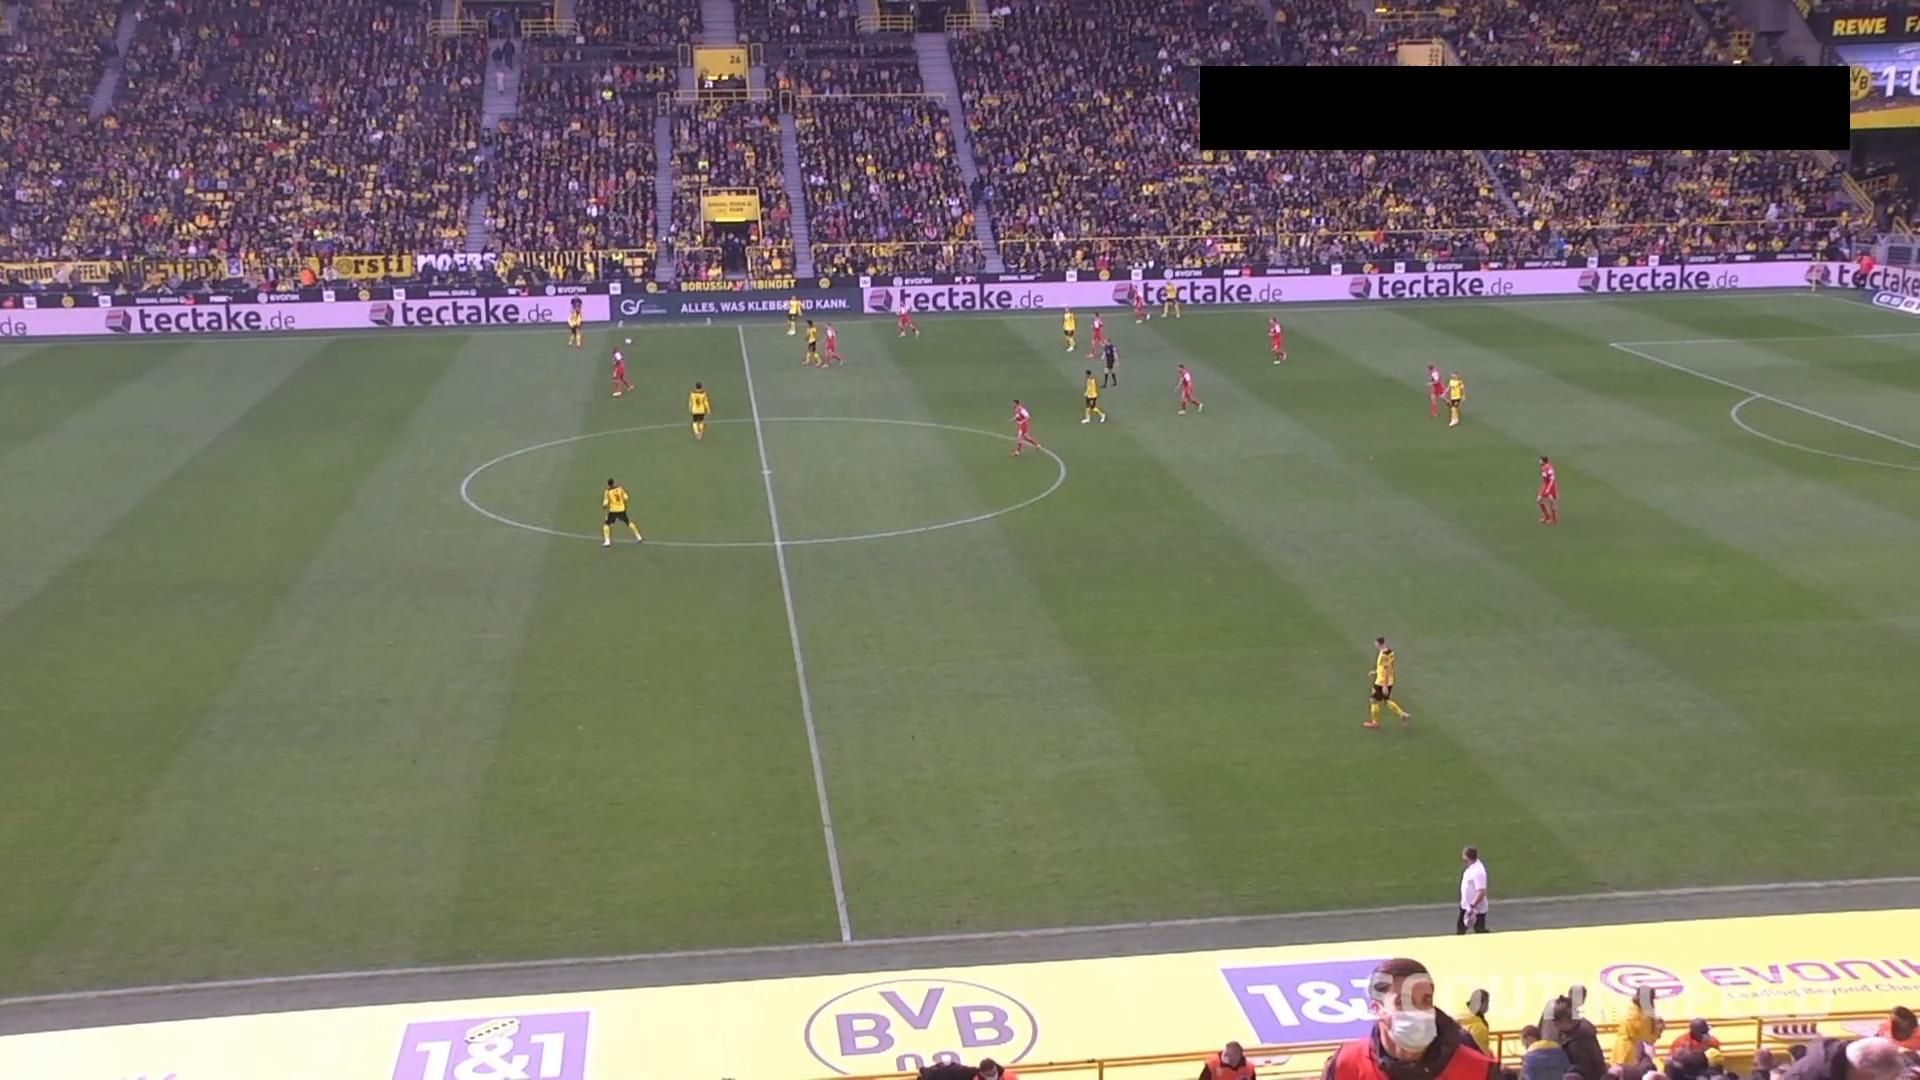coach: (1455, 844, 1490, 933)
fan: (1319, 957, 1508, 1078)
player: (1361, 635, 1409, 728), (600, 477, 643, 546), (1008, 397, 1042, 456), (1173, 362, 1203, 415), (1536, 454, 1559, 523), (1079, 367, 1106, 424), (687, 380, 710, 439), (1442, 369, 1465, 426), (609, 346, 633, 397), (819, 321, 843, 367), (1425, 362, 1444, 417), (1266, 315, 1286, 364), (800, 319, 820, 367), (1085, 310, 1105, 357), (565, 295, 583, 347), (1158, 279, 1181, 319), (895, 301, 919, 338), (1060, 306, 1077, 352), (784, 295, 802, 336), (1131, 286, 1149, 323)
referee: (1099, 336, 1120, 386), (1850, 249, 1876, 288)
